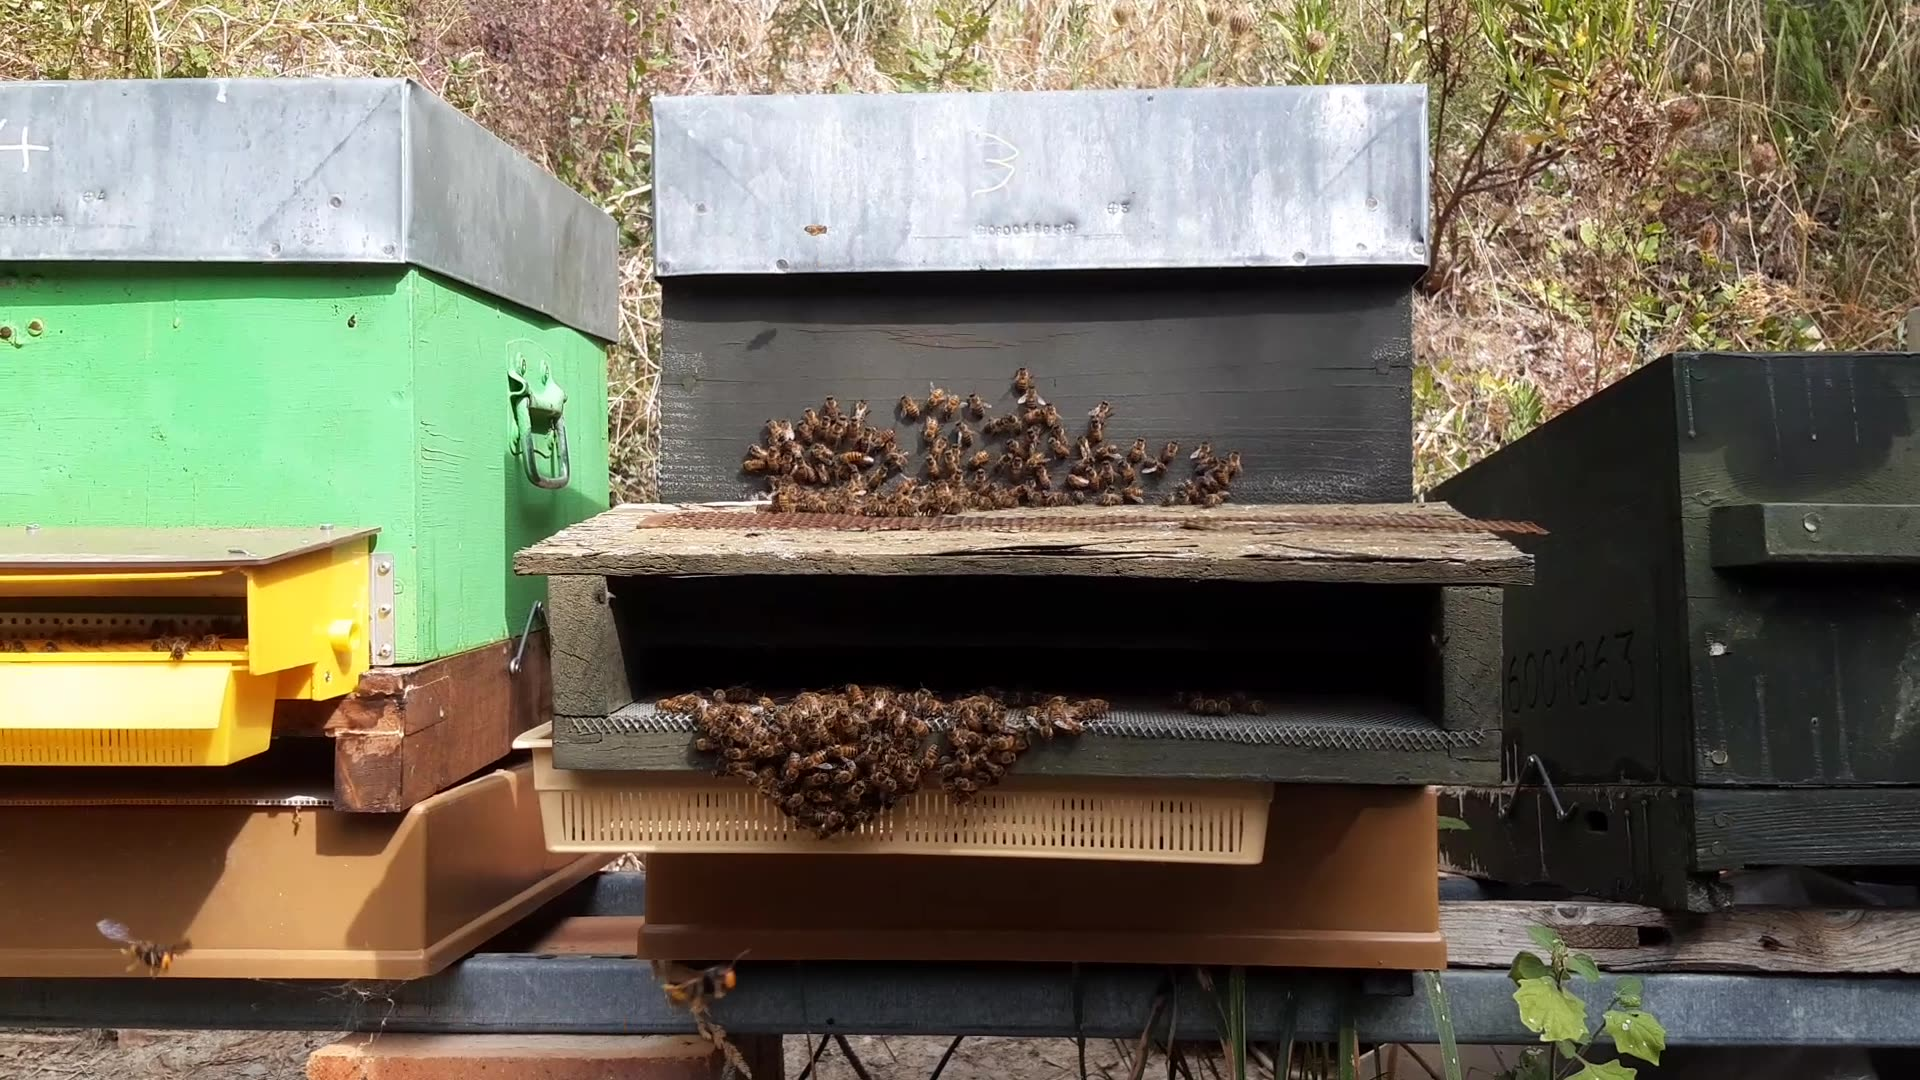bee: (724, 752, 793, 829), (761, 766, 833, 839), (930, 456, 1004, 526), (924, 750, 992, 823), (1033, 451, 1113, 510), (671, 683, 767, 728), (1159, 446, 1241, 498), (752, 451, 832, 502), (851, 459, 928, 510), (833, 675, 928, 713), (928, 380, 982, 439), (1036, 409, 1084, 464), (815, 410, 878, 451)
hornet: (670, 953, 738, 1021)
